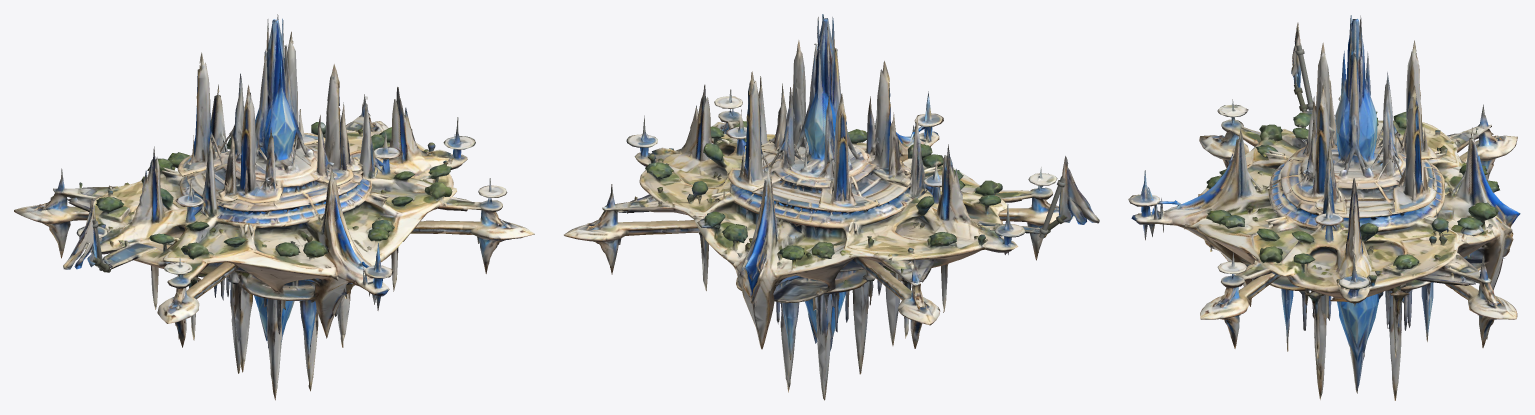
The model's file is st3d_aurelion_citadel.glb.
3 views of the same model, side by side, from view 1: azimuth 30°, elevation 25°; view 2: azimuth 150°, elevation 25°; view 3: azimuth 270°, elevation 25° (orthographic). The views are drawn at different scales.
Visible parts, largest first — view 1: HOMELANCER_Station3D_Aurelion-CapitalOrbitalCitadel_v2; view 2: HOMELANCER_Station3D_Aurelion-CapitalOrbitalCitadel_v2; view 3: HOMELANCER_Station3D_Aurelion-CapitalOrbitalCitadel_v2.
Boxes of the visible parts, x1,y1,x2,y2 form: HOMELANCER_Station3D_Aurelion-CapitalOrbitalCitadel_v2: [14, 14, 534, 400]; HOMELANCER_Station3D_Aurelion-CapitalOrbitalCitadel_v2: [564, 14, 1099, 400]; HOMELANCER_Station3D_Aurelion-CapitalOrbitalCitadel_v2: [1128, 15, 1520, 400].
Size of the model in its own units: 0.886 by 0.7087 by 0.6672.
Materials: 1 (1 with a texture image).
